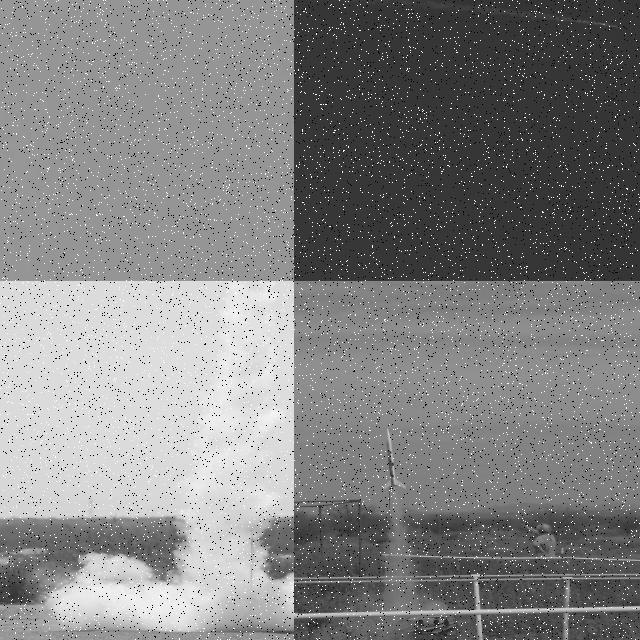Rocket: (381, 427, 408, 491), (604, 22, 620, 28)
